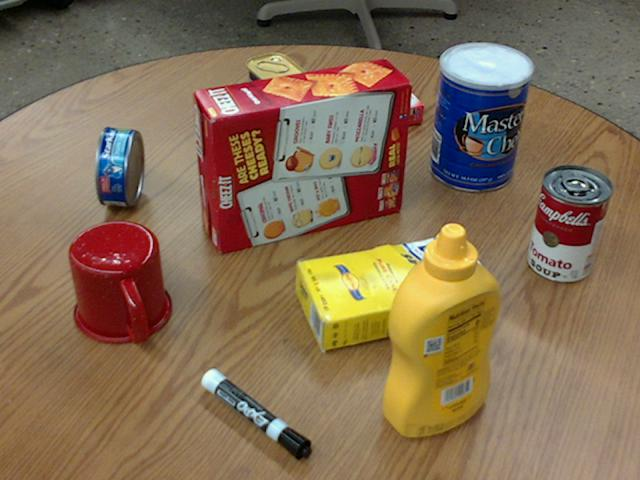cracker_box: (193, 58, 409, 253)
gelatin_box: (347, 75, 424, 128)
large_marker: (200, 369, 310, 459)
master_chef_can: (429, 42, 531, 190)
mug: (69, 221, 172, 343)
mustard_bottle: (382, 223, 499, 437)
potted_meat_can: (246, 52, 316, 148)
sugar_box: (294, 234, 497, 349)
tomato_soup_can: (528, 164, 612, 282)
tuna_fish_can: (96, 128, 142, 206)
